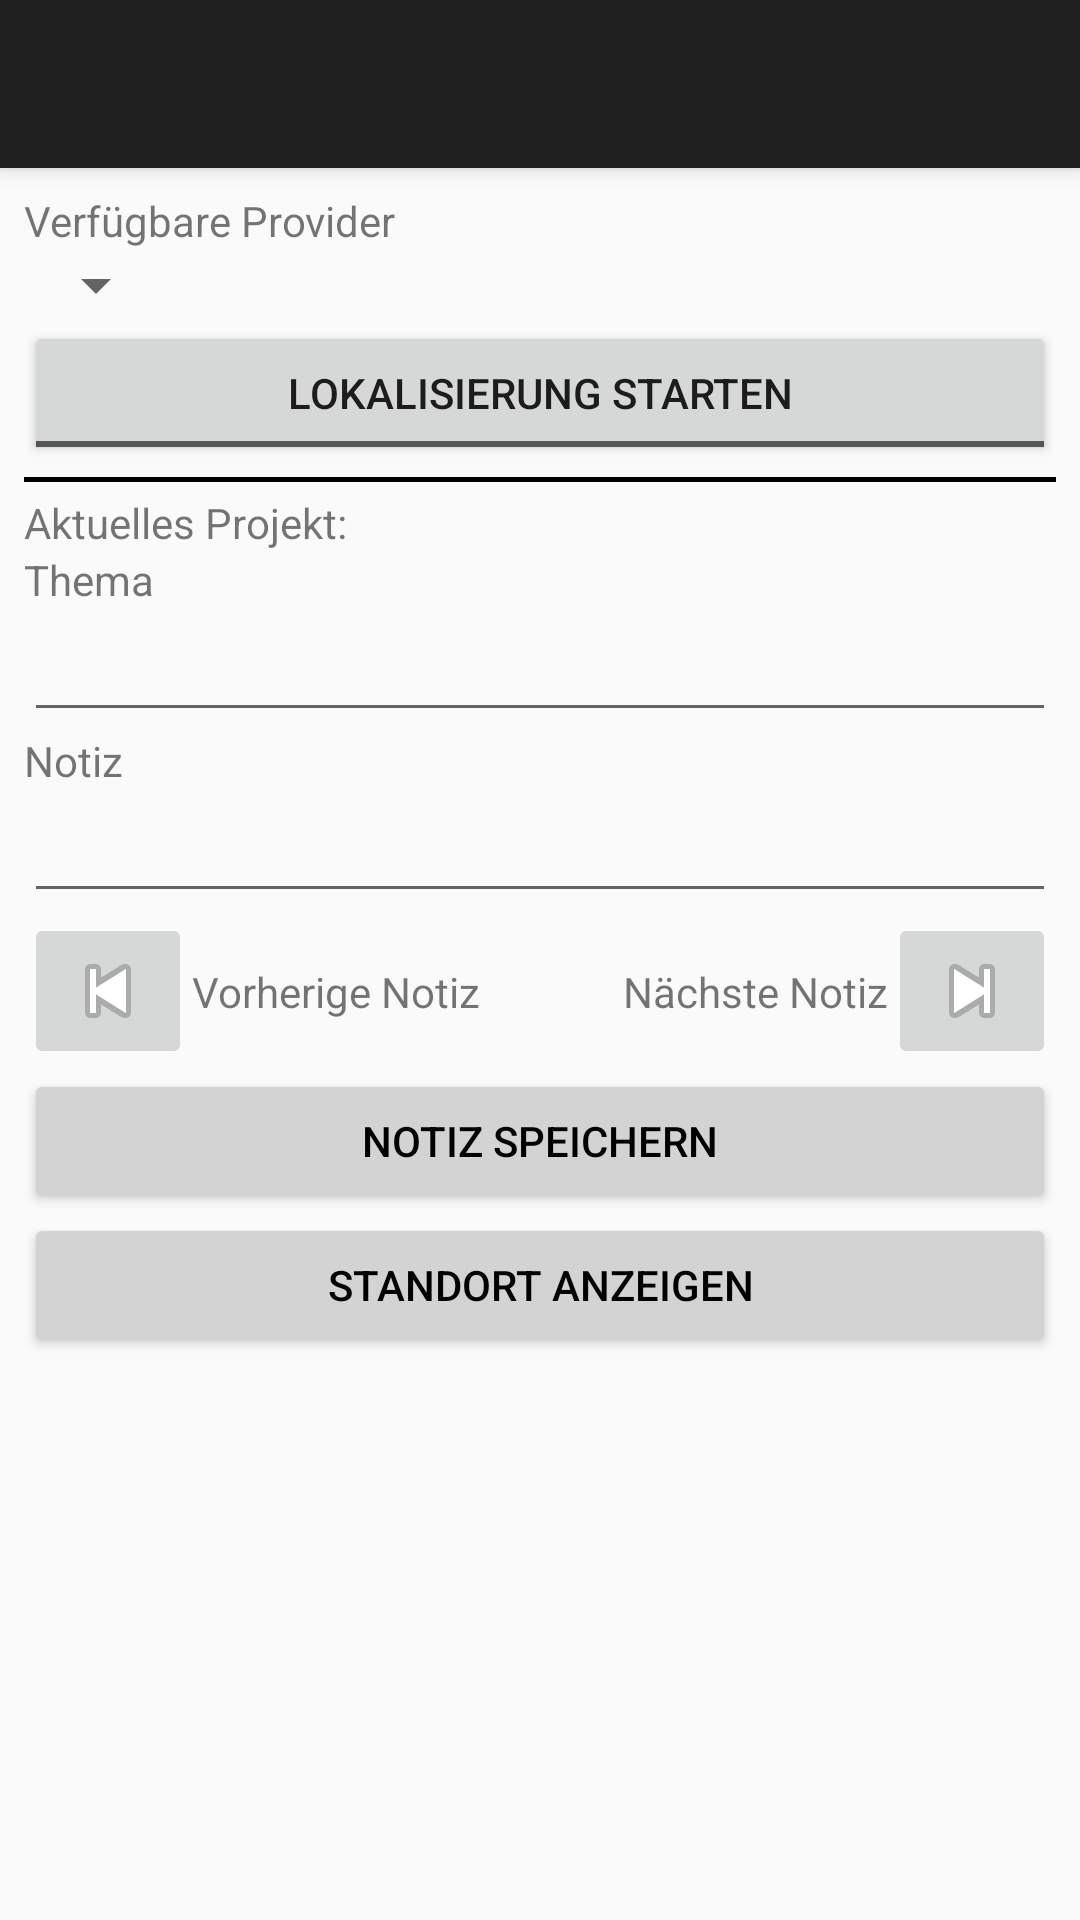

Icon click points for this 1080*1920 phone screenshot, format (x,y):
next: (972,991)
previous: (108,991)
